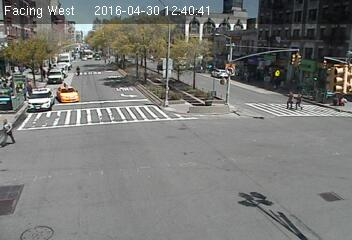neg: (240, 181, 260, 207), (142, 155, 159, 177), (56, 84, 72, 105), (144, 7, 160, 28), (204, 68, 219, 89), (321, 57, 336, 77), (272, 61, 284, 78), (71, 63, 81, 76)
pos: (282, 88, 300, 112), (293, 90, 308, 110)
